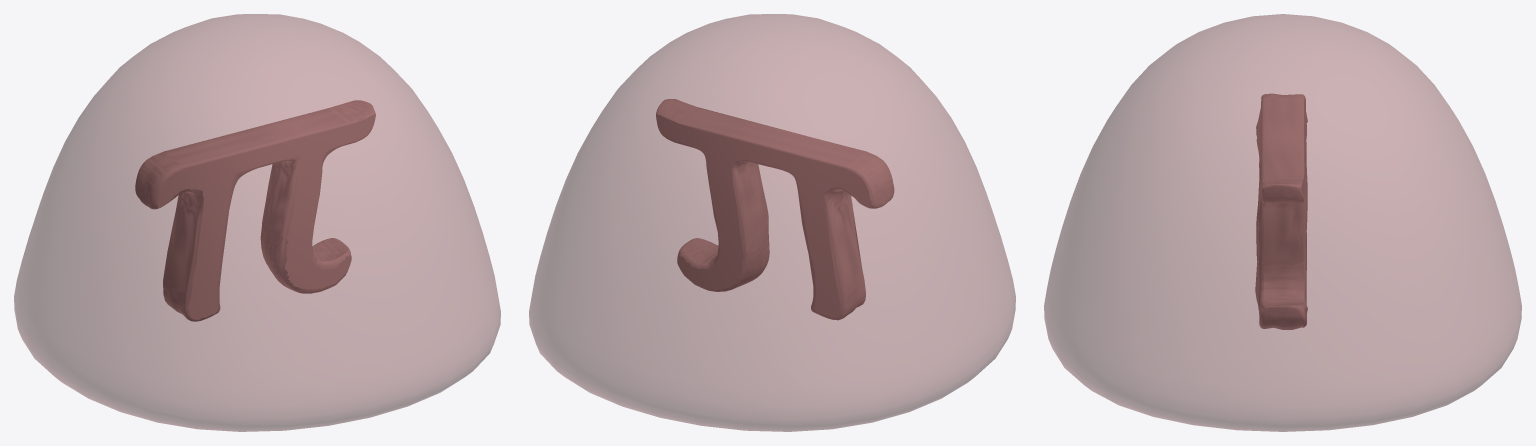
Rendered from model-PiJelly.glb.
3 views of the same model, side by side, from view 1: azimuth 30°, elevation 25°; view 2: azimuth 150°, elevation 25°; view 3: azimuth 270°, elevation 25° (orthographic).
Visible parts, largest first — view 1: Cube, typeMesh1.001; view 2: Cube, typeMesh1.001; view 3: Cube, typeMesh1.001.
Part boxes in pixels (x1,y1,x2,y2): Cube: [14, 14, 500, 431]; typeMesh1.001: [135, 100, 375, 321]; Cube: [529, 14, 1015, 431]; typeMesh1.001: [656, 99, 894, 320]; Cube: [1044, 14, 1521, 431]; typeMesh1.001: [1255, 93, 1307, 329].
Bounding box in the file's own units: 7.15 × 5.31 × 7.15.
